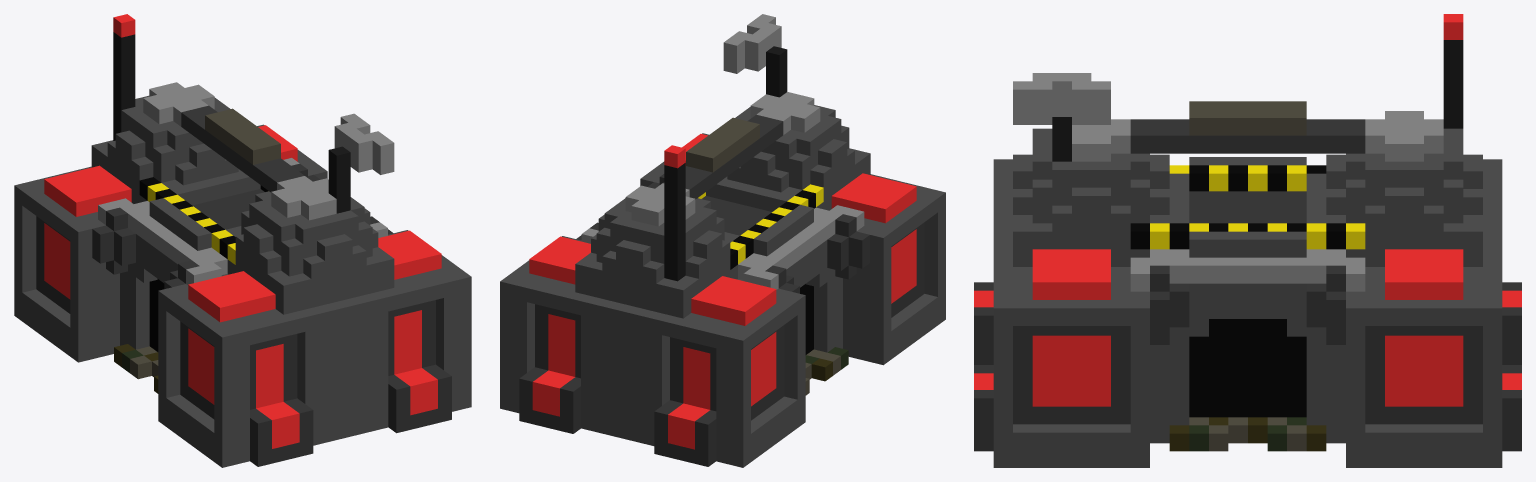
File: Barracks.obj
3 views of the same model, side by side, from view 1: azimuth 30°, elevation 25°; view 2: azimuth 150°, elevation 25°; view 3: azimuth 270°, elevation 25° (orthographic). The views are drawn at different scales.
Size of the model in its own units: 1.8 by 2 by 2.8.
1 material, 1 textured.
